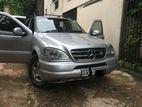car: (1, 11, 117, 86)
